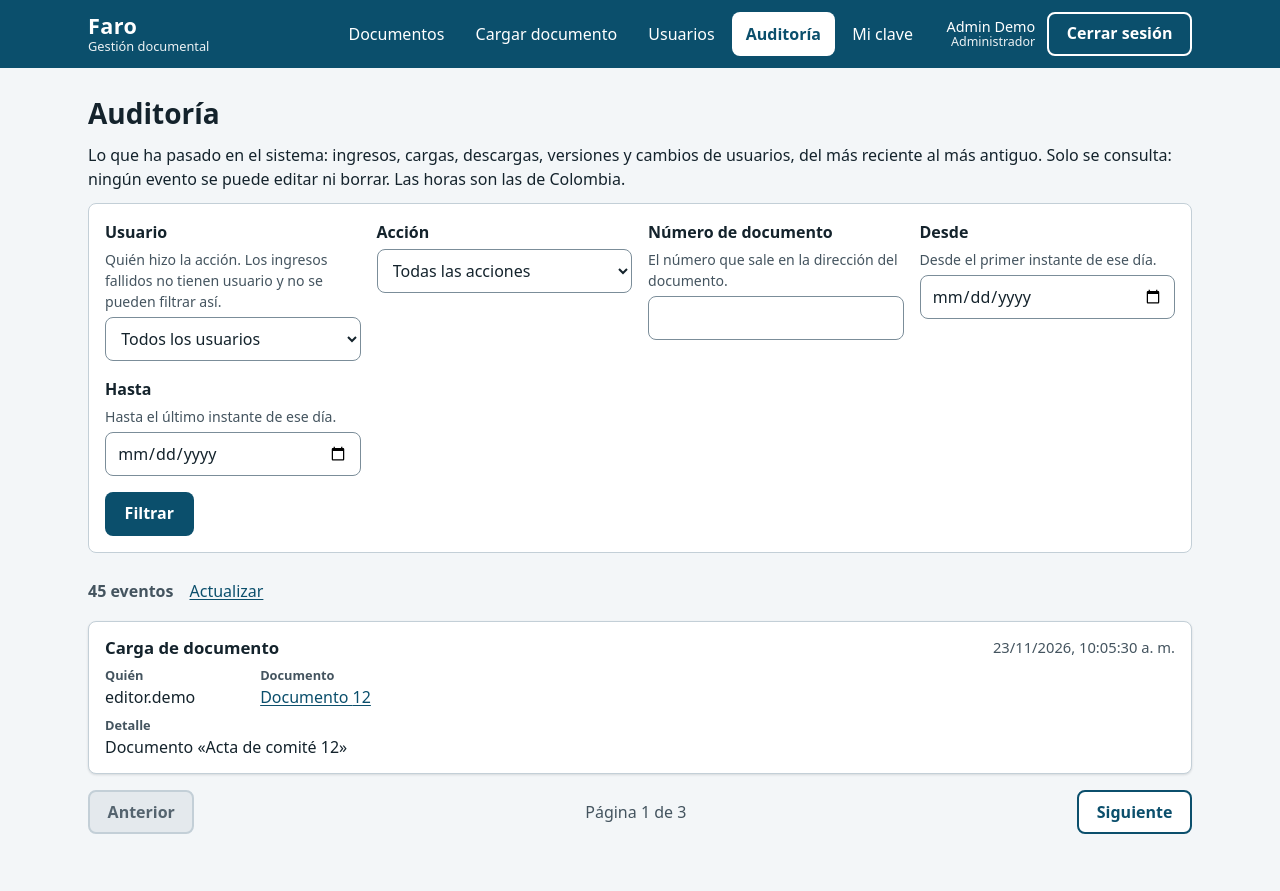
Test case: paginación › con 45 eventos hay 3 páginas: «Siguiente» cambia la URL y pide la página 2
Expected: the heading "Carga de documento" is shown, x1=105 y1=637 x2=279 y2=658
Expected: the text "Página 1 de 3" is shown, x1=585 y1=800 x2=686 y2=824
Click the button "Siguiente".
click(1135, 812)  # box x1=1077 y1=790 x2=1192 y2=834
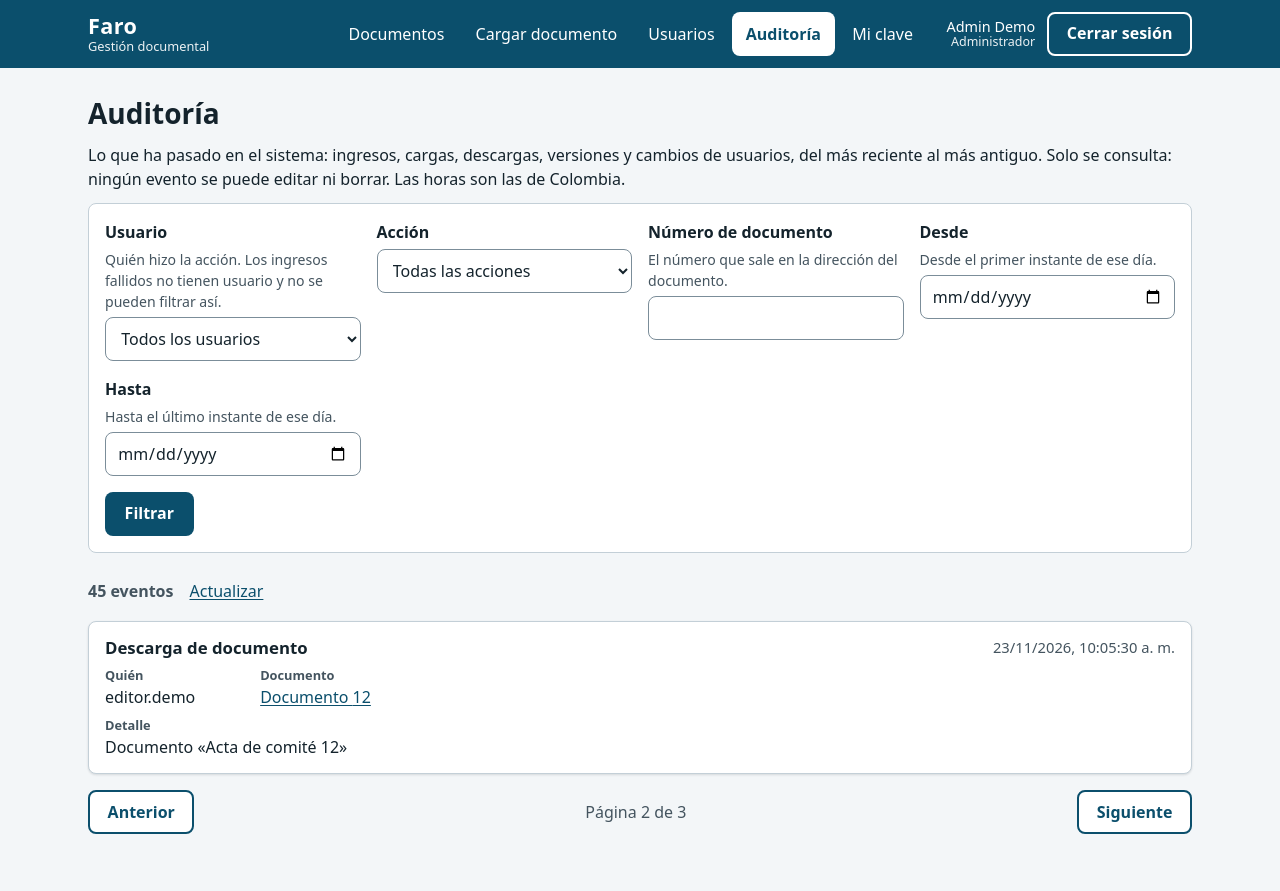
Now the heading "Descarga de documento" is shown, box x1=105 y1=637 x2=308 y2=658
Now the text "Página 2 de 3" is shown, box x1=585 y1=800 x2=686 y2=824
